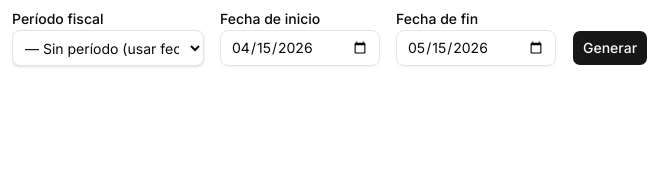
Test: WorksheetFilters — defaults + fiscal period selector › (i) selecting a period fills dateFrom/dateTo from its range
This screenshot has width=664, height=172.
Select "Mayo 2026" in the dropdown labelled "Período fiscal" at (108, 48), box [12,30,204,66]
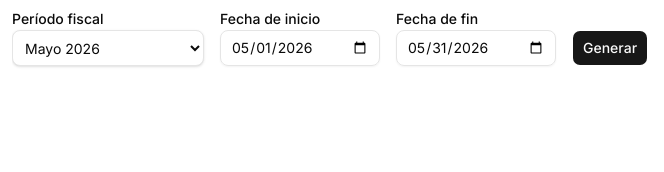
Expected: the date field labelled "Fecha de inicio" holds "2026-05-01", [220,30,380,66]
Expected: the date field labelled "Fecha de fin" holds "2026-05-31", [396,30,556,66]
